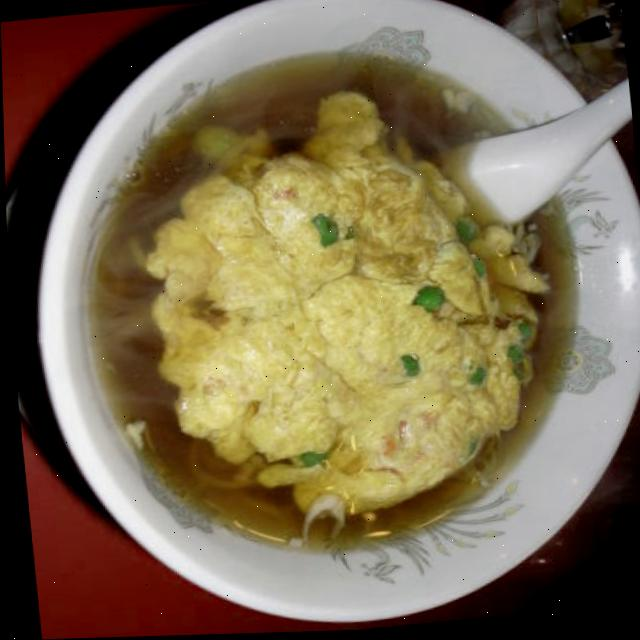面条主食: (42, 18, 602, 585)
